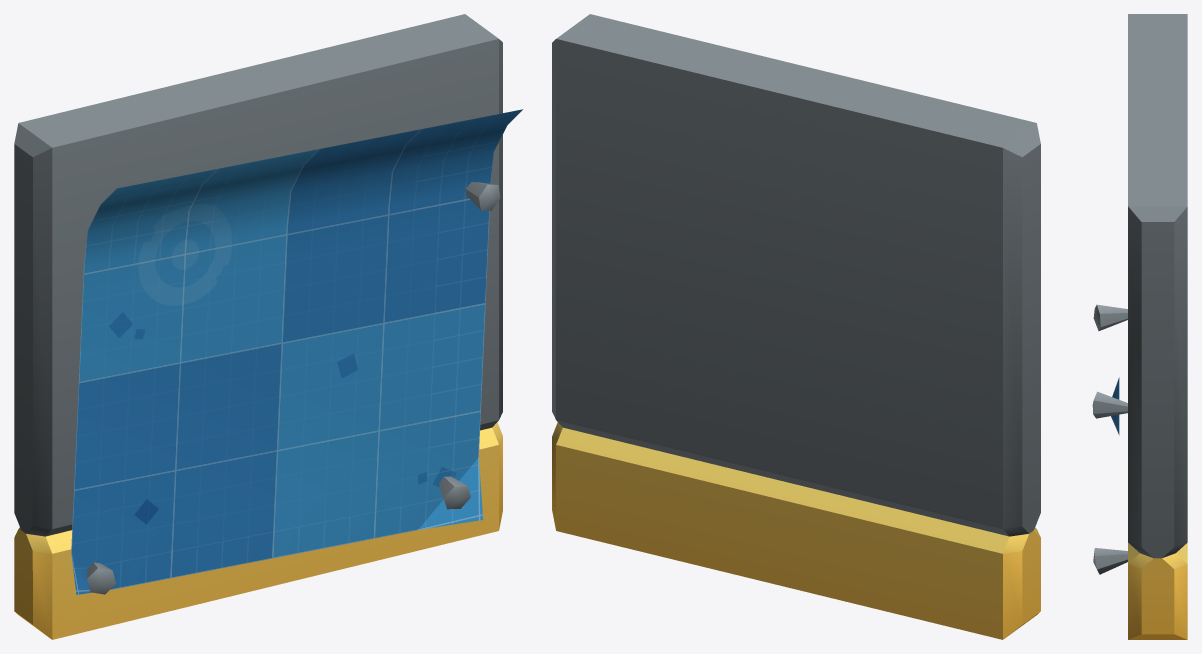
The model's file is Wall_targets.glb.
The picture shows the model from 3 angles, left to right: view 1: azimuth 30°, elevation 25°; view 2: azimuth 150°, elevation 25°; view 3: azimuth 270°, elevation 25°; orthographic projection. The views are drawn at different scales.
Parts seen in each view (by area): view 1: Wall_Target; view 2: Wall_Target; view 3: Wall_Target.
Part boxes in pixels (<box>): Wall_Target: <box>14,14,522,639</box>; Wall_Target: <box>552,14,1040,639</box>; Wall_Target: <box>1092,14,1187,639</box>.
Size of the model in its own units: 4 by 4 by 0.9913.
Materials: 1 (1 with a texture image).
